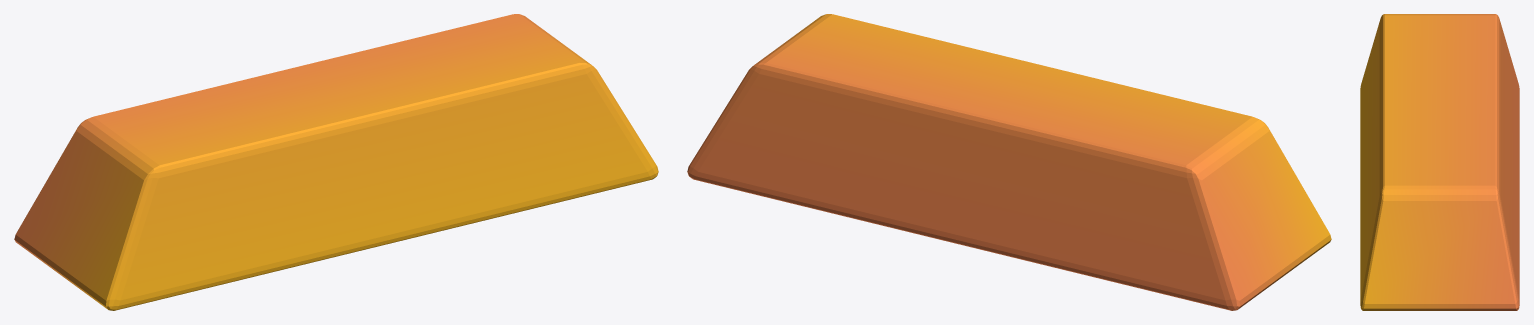
File: GoldIngot.fbx
3 renders of one model, left to right at view 1: azimuth 30°, elevation 25°; view 2: azimuth 150°, elevation 25°; view 3: azimuth 270°, elevation 25°, orthographic. The views are drawn at different scales.
Parts seen in each view (by area): view 1: Plane; view 2: Plane; view 3: Plane.
Boxes of the visible parts, <box> form: Plane: <box>14,14,658,310</box>; Plane: <box>687,14,1331,310</box>; Plane: <box>1360,14,1519,310</box>.
Size of the model in its own units: 197 by 41.27 by 59.18.
